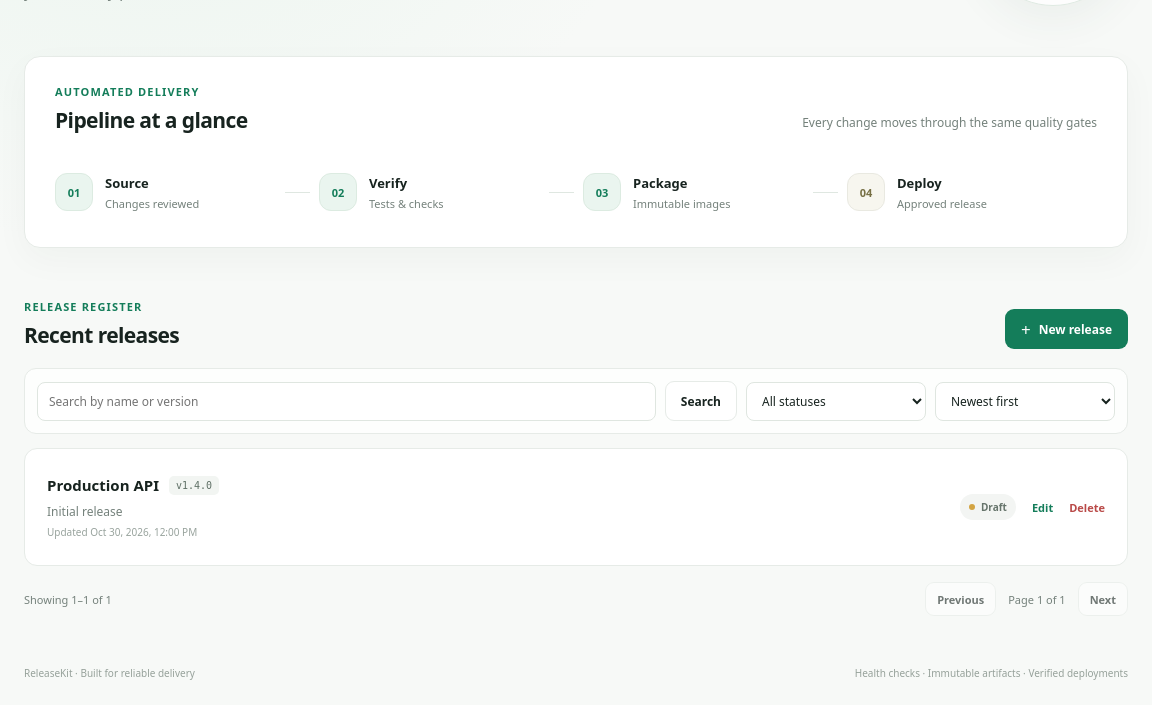
Test case: release dashboard › deletes a release and refreshes the empty state
(page scrolled)
Step 1. Click the button with aria-label "Delete Production API" → (1087, 507), box x1=1069 y1=494 x2=1105 y2=520
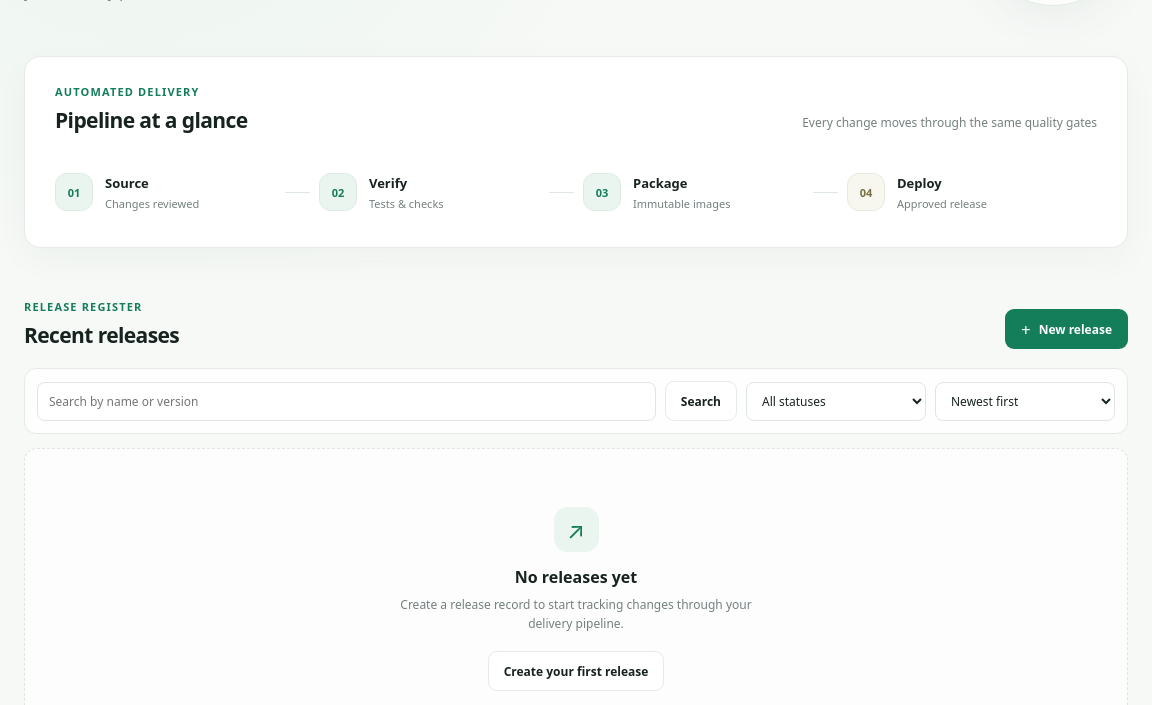
Expected: the heading "No releases yet" is shown, x1=515 y1=566 x2=637 y2=588
